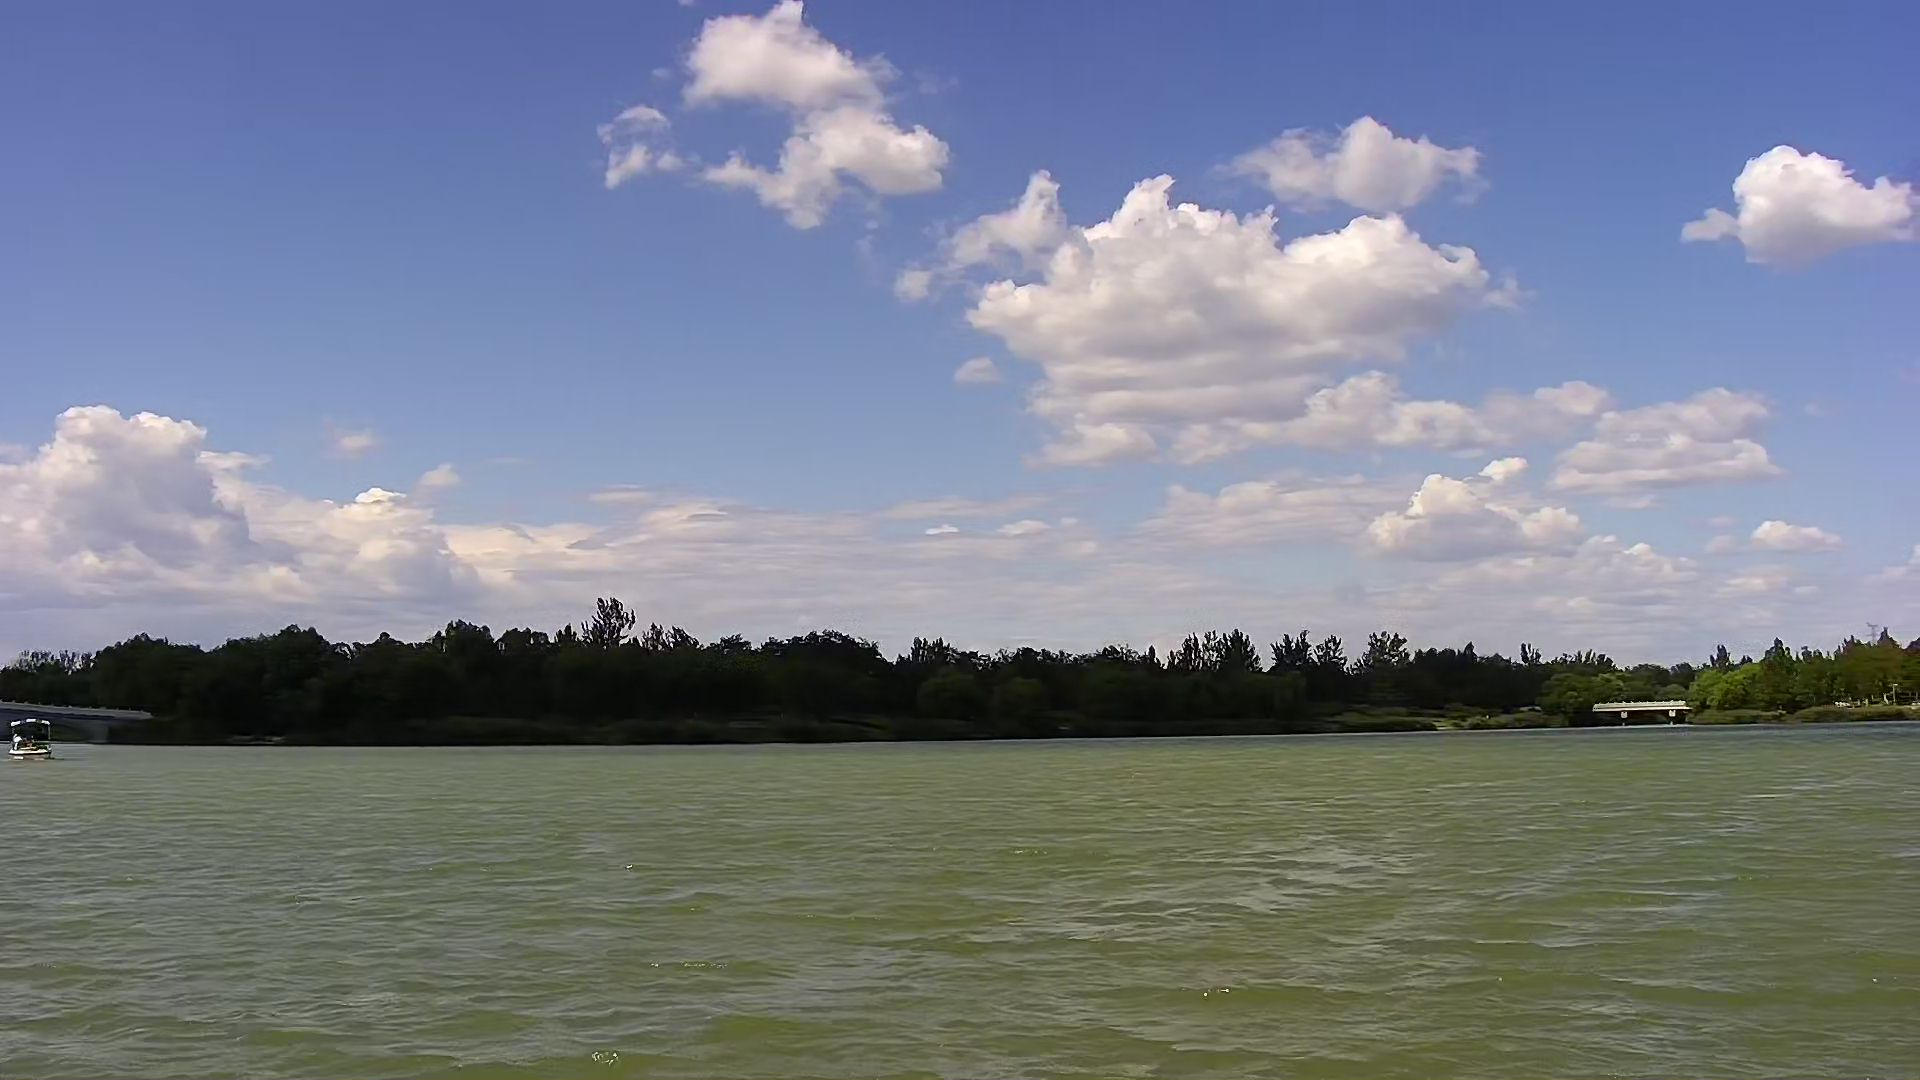boat: (11, 713, 61, 766)
bridge: (1, 698, 153, 744), (1592, 698, 1698, 733)
